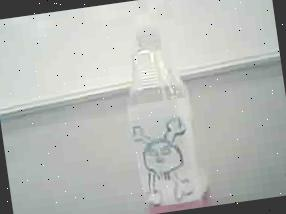hazard: (110, 0, 215, 214)
